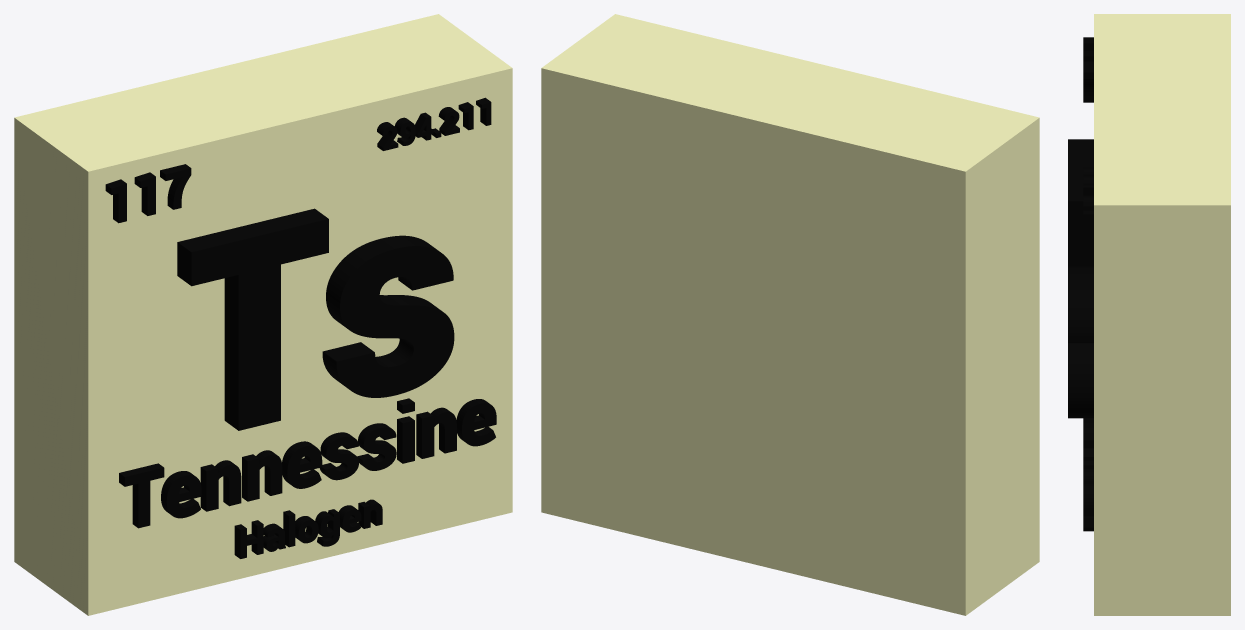
3 renders of one model, left to right at view 1: azimuth 30°, elevation 25°; view 2: azimuth 150°, elevation 25°; view 3: azimuth 270°, elevation 25°, orthographic. The views are drawn at different scales.
Parts seen in each view (by area): view 1: Cube, Text, Text.001, Text.002, Text.004, Text.003; view 2: Cube; view 3: Cube, Text, Text.001, Text.004, Text.003.
Boxes of the visible parts, bbox=[...] form: Cube: bbox=[14, 14, 512, 615]; Text: bbox=[177, 208, 454, 430]; Text.001: bbox=[119, 398, 496, 528]; Text.002: bbox=[234, 499, 382, 558]; Text.004: bbox=[377, 97, 491, 150]; Text.003: bbox=[105, 164, 191, 223]; Cube: bbox=[541, 14, 1039, 615]; Cube: bbox=[1094, 14, 1230, 615]; Text: bbox=[1068, 139, 1093, 418]; Text.001: bbox=[1083, 418, 1093, 527]; Text.004: bbox=[1083, 167, 1093, 235]; Text.003: bbox=[1083, 37, 1093, 102].
Size of the model in its own units: 178 by 178 by 63.95.
